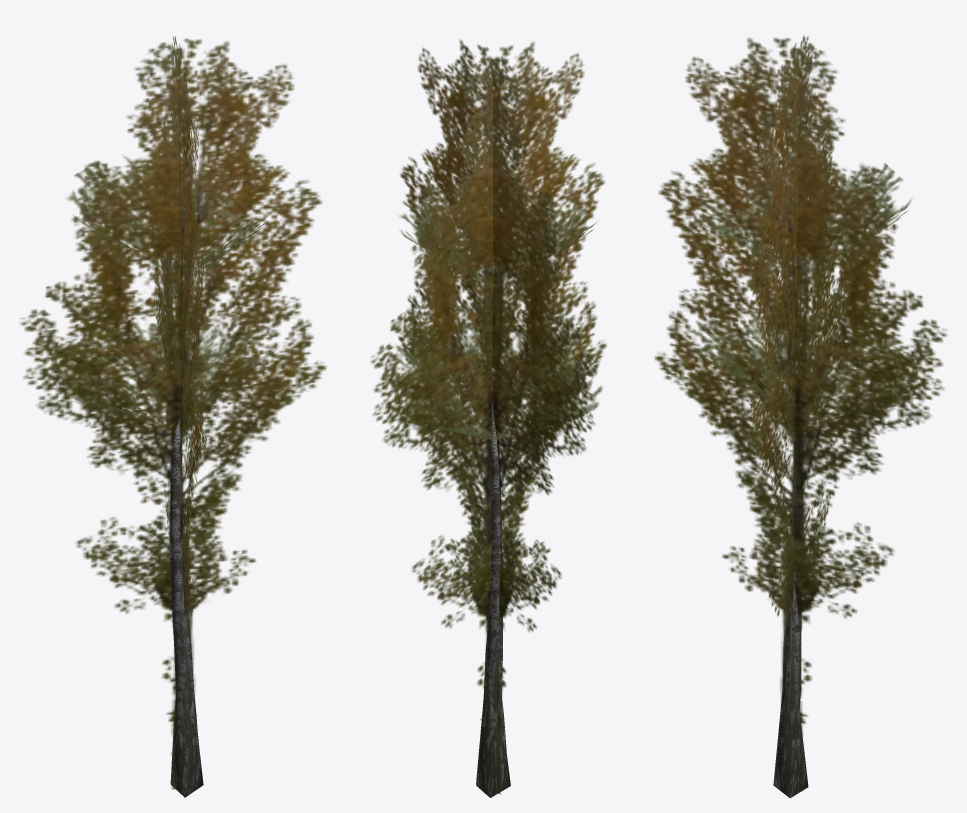
File: Birch_025.gltf
The picture shows the model from 3 angles, left to right: view 1: azimuth 30°, elevation 25°; view 2: azimuth 150°, elevation 25°; view 3: azimuth 270°, elevation 25°; orthographic projection.
Parts seen in each view (by area): view 1: Birch_025; view 2: Birch_025; view 3: Birch_025.
Boxes of the visible parts, left/top/right/bottom form: Birch_025: left=20, top=36, right=326, bottom=797; Birch_025: left=370, top=39, right=606, bottom=797; Birch_025: left=654, top=35, right=947, bottom=798.
Bounding box in the file's own units: 10.2 × 27.84 × 10.2.
2 materials, 2 textured.
